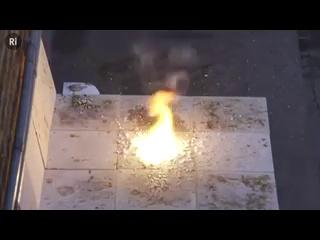Fire: (133, 88, 184, 161)
